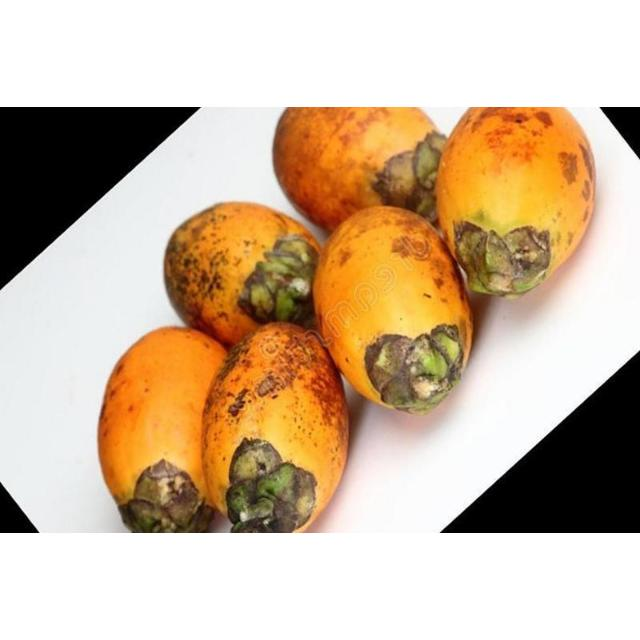good: (313, 206, 474, 417), (194, 322, 350, 533), (434, 107, 597, 300), (95, 327, 245, 533), (162, 203, 325, 349), (272, 107, 446, 234)
